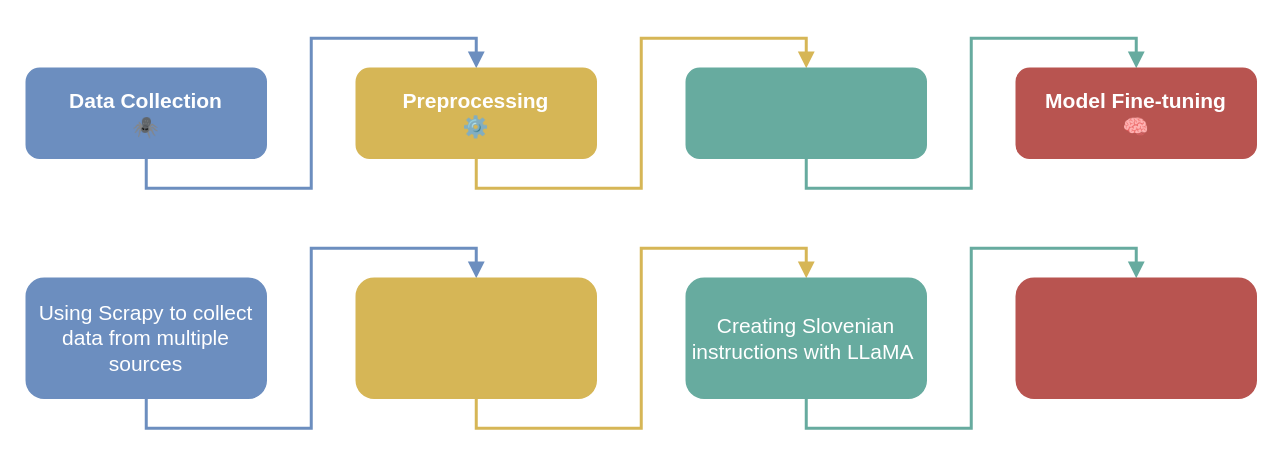
The diagram is 1283 pixels wide and 467 high, and some of its shapes have lost their labels. Each missing label, with the box of its shape:
Filtering, deduplication, annotation with Monocleaner, clustering: (355, 277, 596, 398)
Instruction Dataset 📋: (685, 67, 926, 158)
Model Fine-tuning Using LoRA and FSDP on LLaMA model: (1015, 277, 1256, 398)
